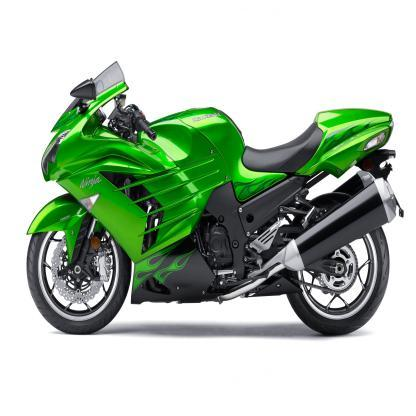Motorcycle: (22, 46, 406, 355)
